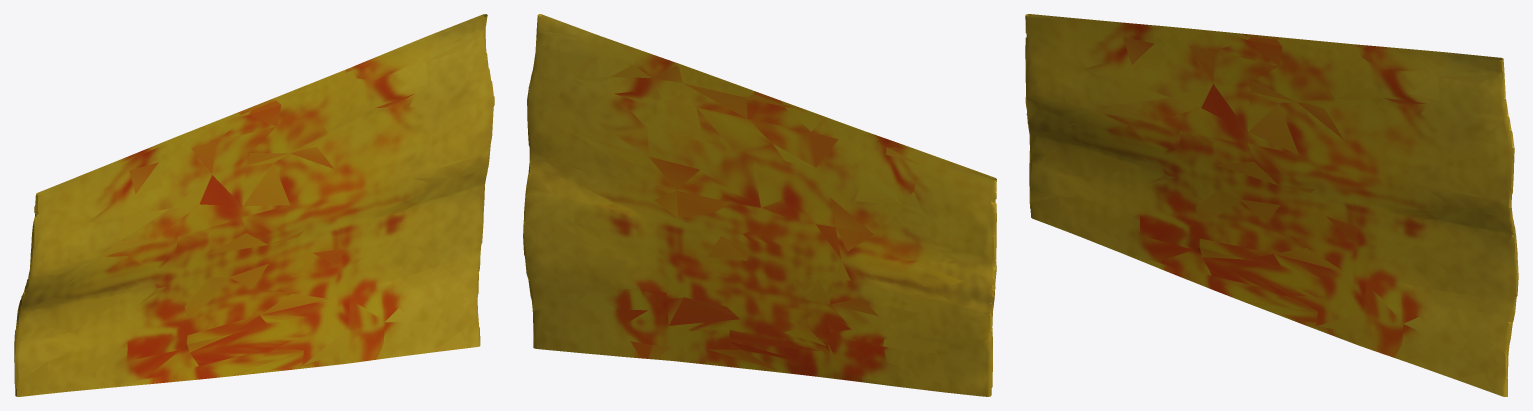
The model's file is fragment_2.fbx.
3 renders of one model, left to right at view 1: azimuth 30°, elevation 25°; view 2: azimuth 150°, elevation 25°; view 3: azimuth 330°, elevation 25°, orthographic. The views are drawn at different scales.
Visible parts, largest first — view 1: fragment_2; view 2: fragment_2; view 3: fragment_2.
Boxes of the visible parts, box(x1,y1,x2,y2) form: fragment_2: box(14, 14, 494, 396); fragment_2: box(523, 14, 996, 396); fragment_2: box(1025, 14, 1518, 396).
Bounding box in the file's own units: 7.35 × 4.93 × 0.5574.
1 material, 1 textured.
